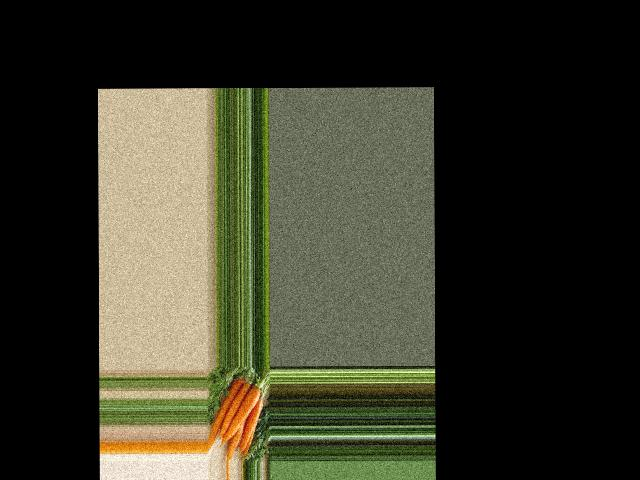carrot: (206, 373, 245, 451)
